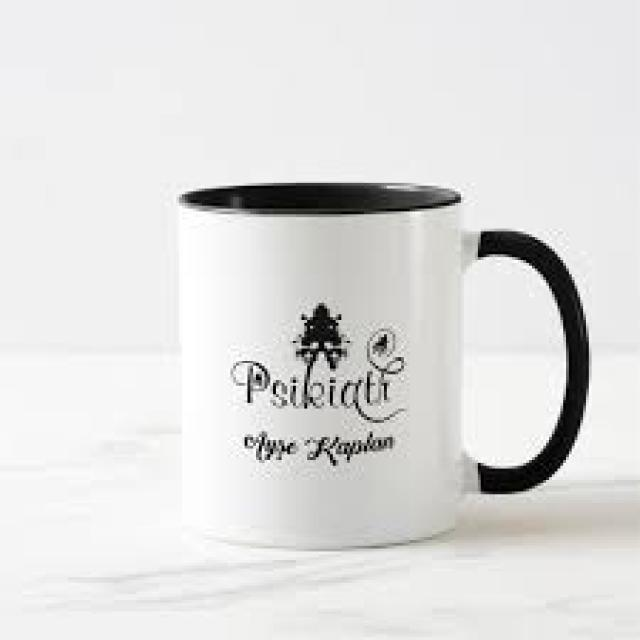taza: (173, 180, 590, 552)
